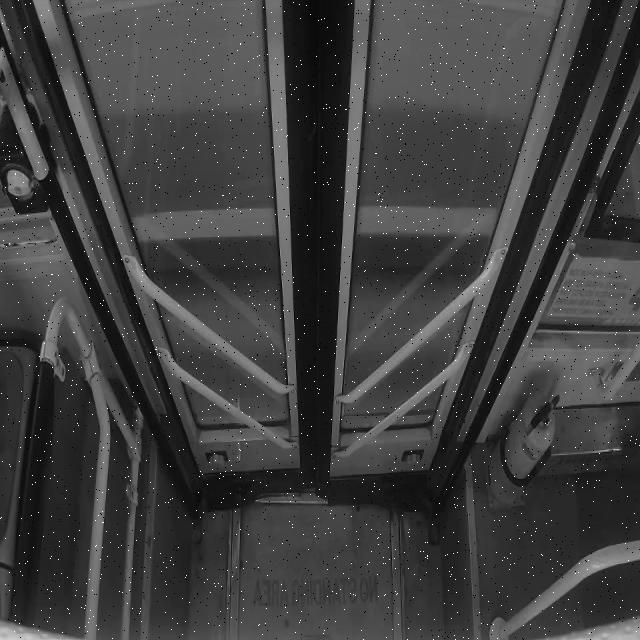close: (60, 1, 562, 487)
